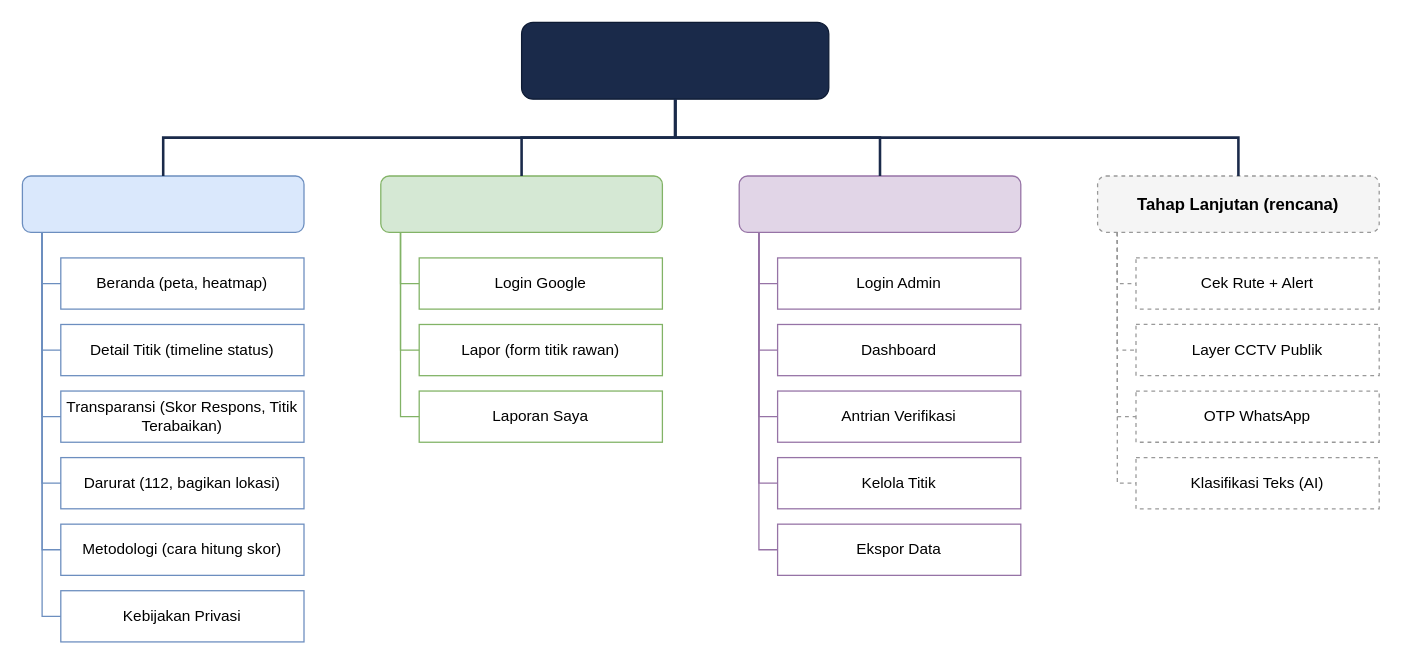
This 1402x664 diagram has some shape labels left out. Each missing label, with the centre of its shape:
Halaman Utama (Beranda): the point at 674,60
Untuk Admin Instansi: the point at 879,203
Untuk Pengunjung / Publik: the point at 162,203
Untuk Warga (login): the point at 521,203
